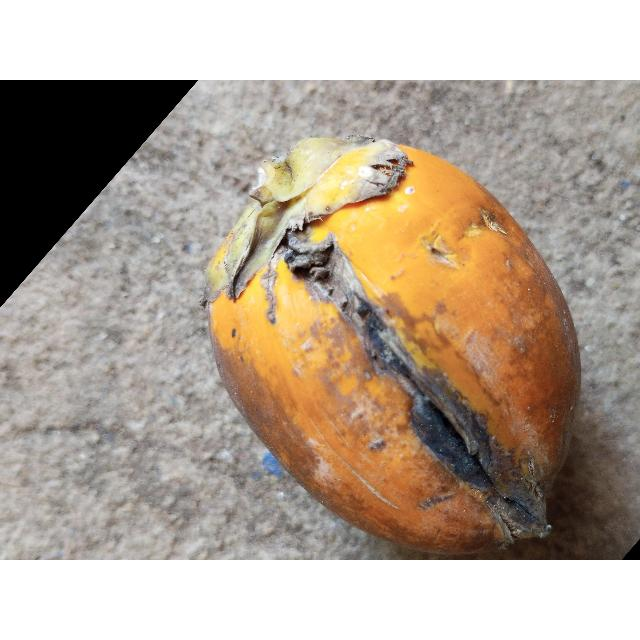damaged: (206, 137, 583, 558)
